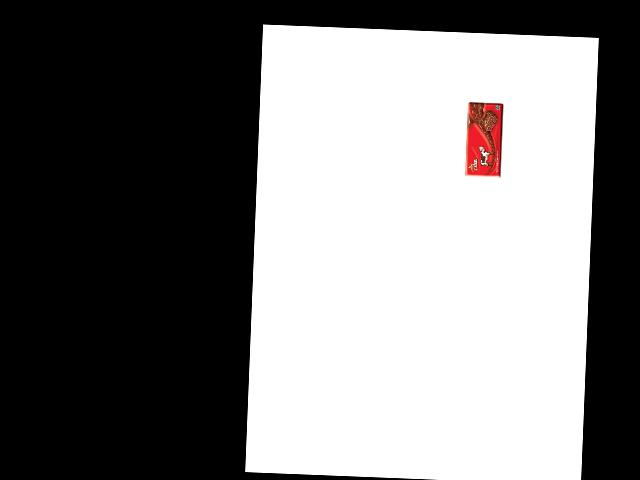chocolate: (458, 99, 497, 170)
